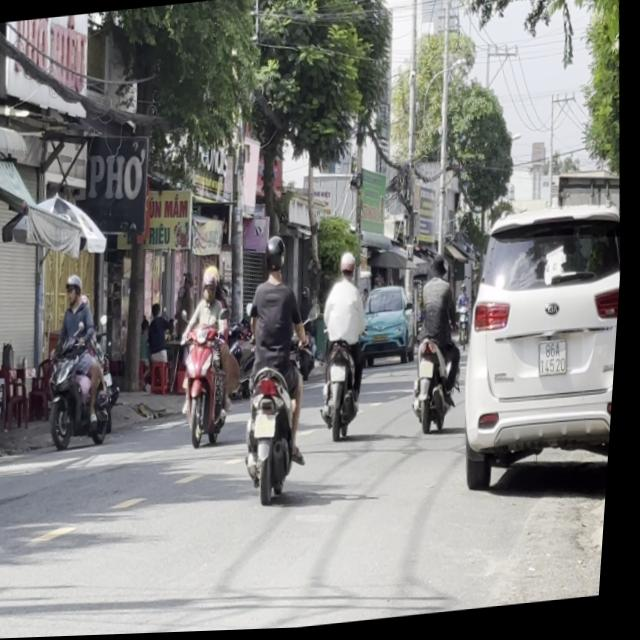helmet: (263, 234, 290, 282), (202, 265, 222, 300), (66, 271, 86, 305), (339, 252, 359, 281)
licenseplate: (229, 230, 327, 505), (41, 267, 127, 456), (172, 261, 247, 450), (311, 249, 380, 443), (403, 250, 474, 438)
motorcyclist: (432, 254, 449, 281)
nohelmet: (258, 414, 282, 439), (333, 365, 350, 385), (422, 362, 438, 382)
